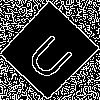U: (24, 25, 83, 84)
